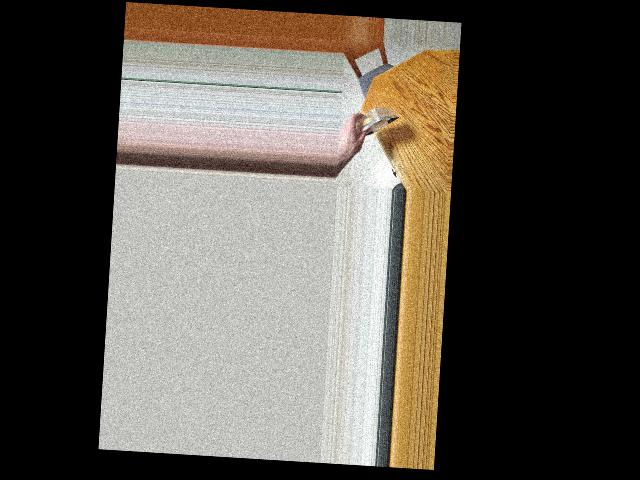cheese: (344, 93, 390, 153)
